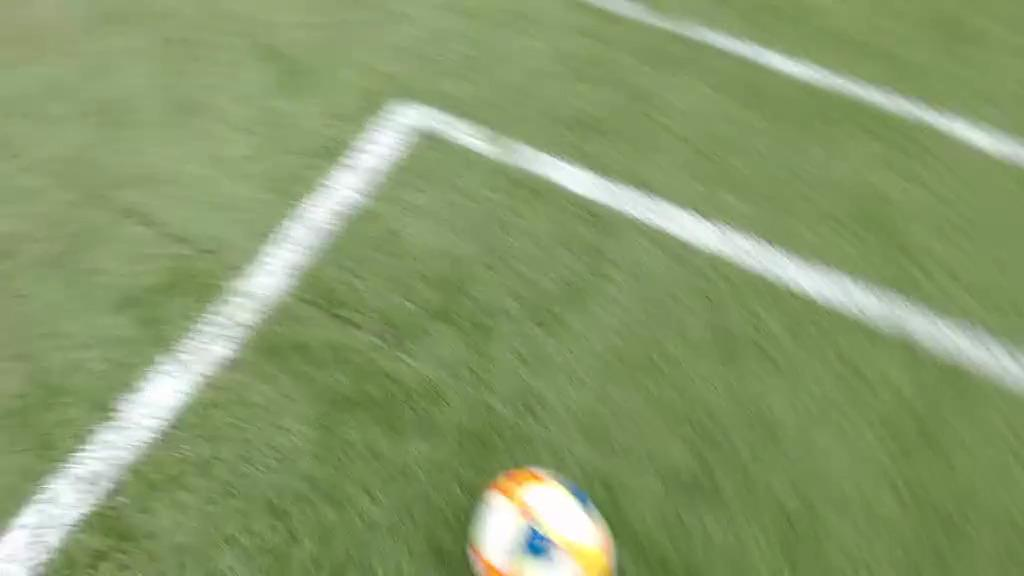ball: (468, 464, 615, 576)
